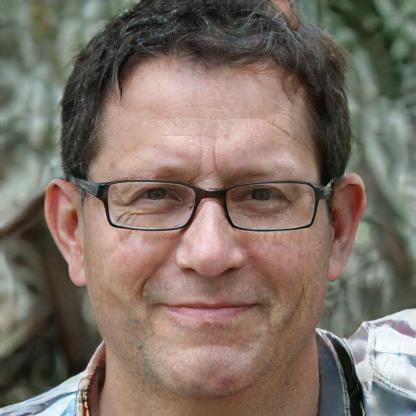glasses: (86, 171, 326, 241)
